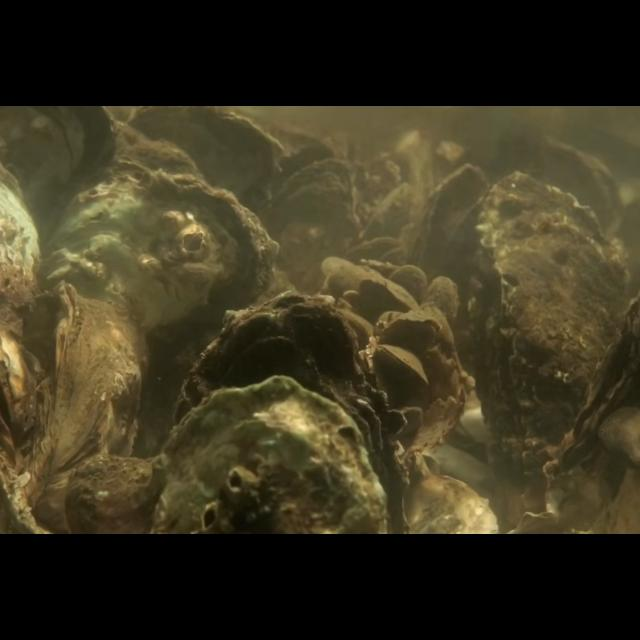Oyster-Closed: (47, 166, 281, 444), (176, 289, 407, 535), (148, 373, 388, 534), (29, 280, 147, 534), (412, 162, 492, 318), (359, 277, 419, 313), (388, 264, 428, 312), (383, 316, 441, 348), (426, 274, 458, 326)
Oyster-Open: (469, 170, 629, 468), (540, 282, 640, 502), (258, 142, 354, 284), (375, 344, 429, 386)
